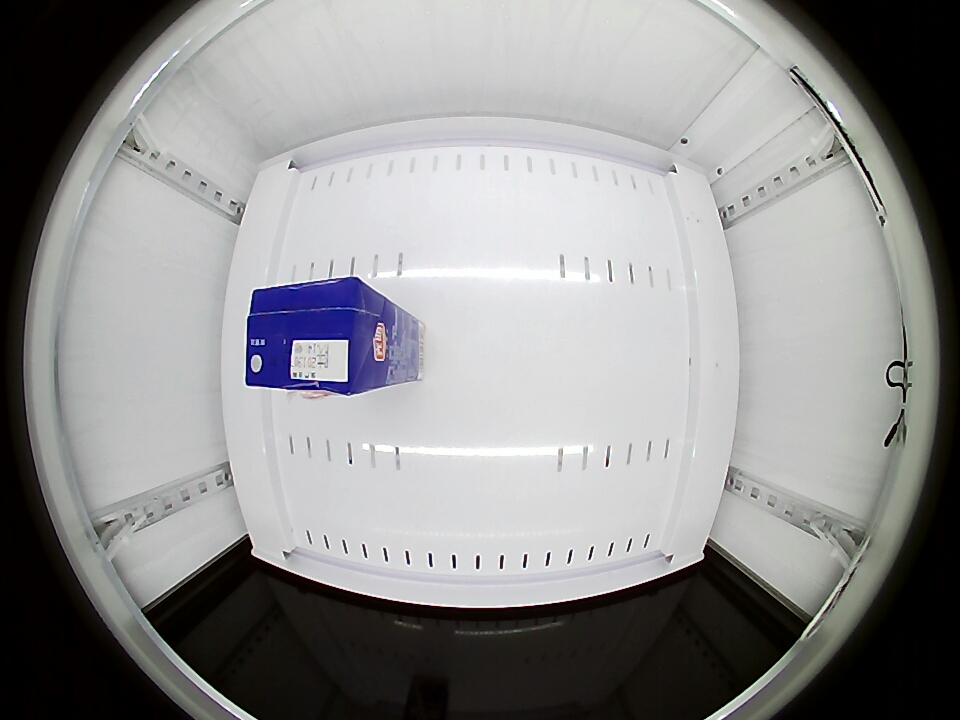bingqilinniunai: (244, 277, 388, 396)
